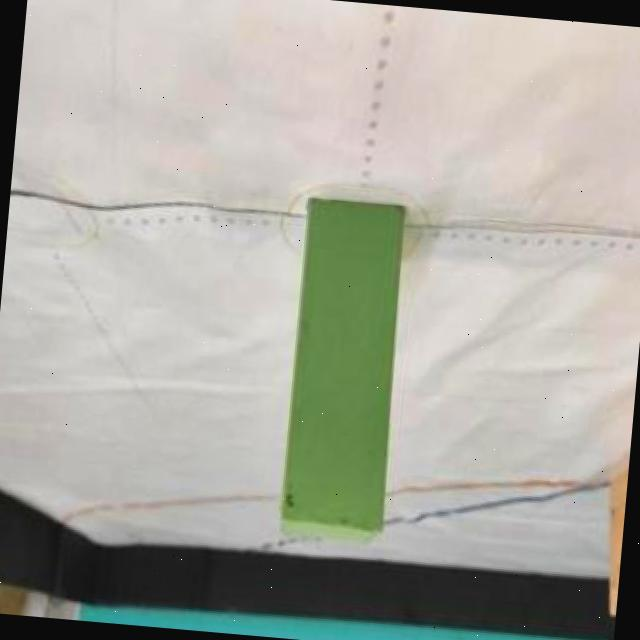greenbox: (274, 188, 412, 542)
